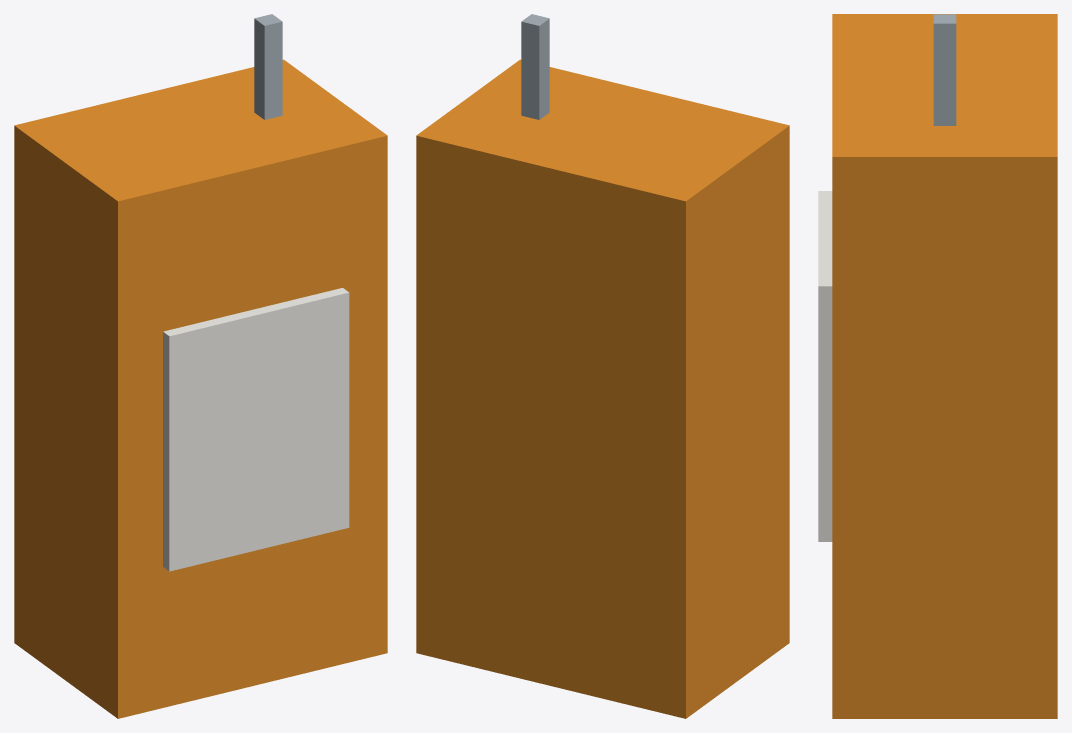
The model's file is FD_JuiceBox_01.glb.
3 renders of one model, left to right at view 1: azimuth 30°, elevation 25°; view 2: azimuth 150°, elevation 25°; view 3: azimuth 270°, elevation 25°, orthographic. The views are drawn at different scales.
Parts seen in each view (by area): view 1: FD_JuiceBox_01; view 2: FD_JuiceBox_01; view 3: FD_JuiceBox_01.
Boxes of the visible parts, x1,y1,x2,y2 form: FD_JuiceBox_01: [14, 14, 387, 718]; FD_JuiceBox_01: [416, 14, 789, 718]; FD_JuiceBox_01: [818, 14, 1057, 718].
Size of the model in its own units: 0.06 by 0.13 by 0.0425.
Materials: 1 (1 with a texture image).
